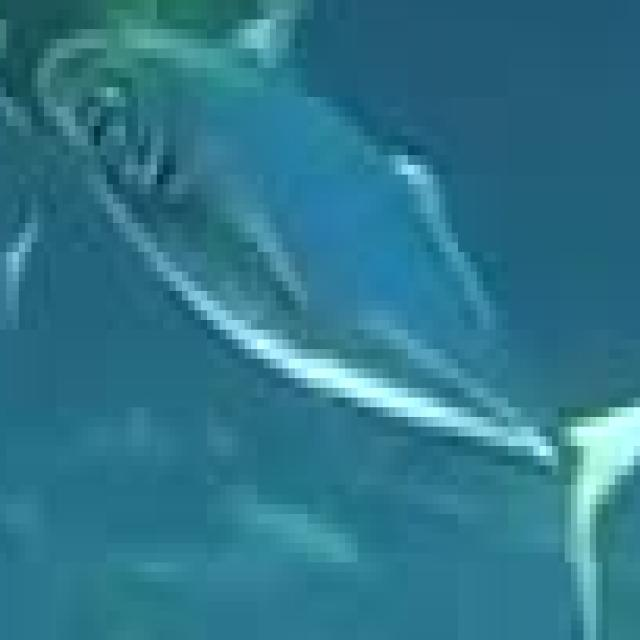fish: (6, 0, 639, 631)
